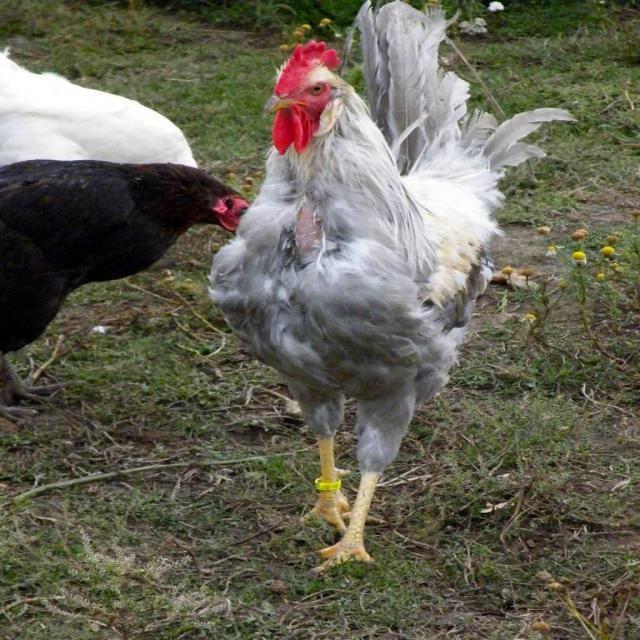Chicken: (202, 0, 582, 562), (0, 158, 249, 427)
